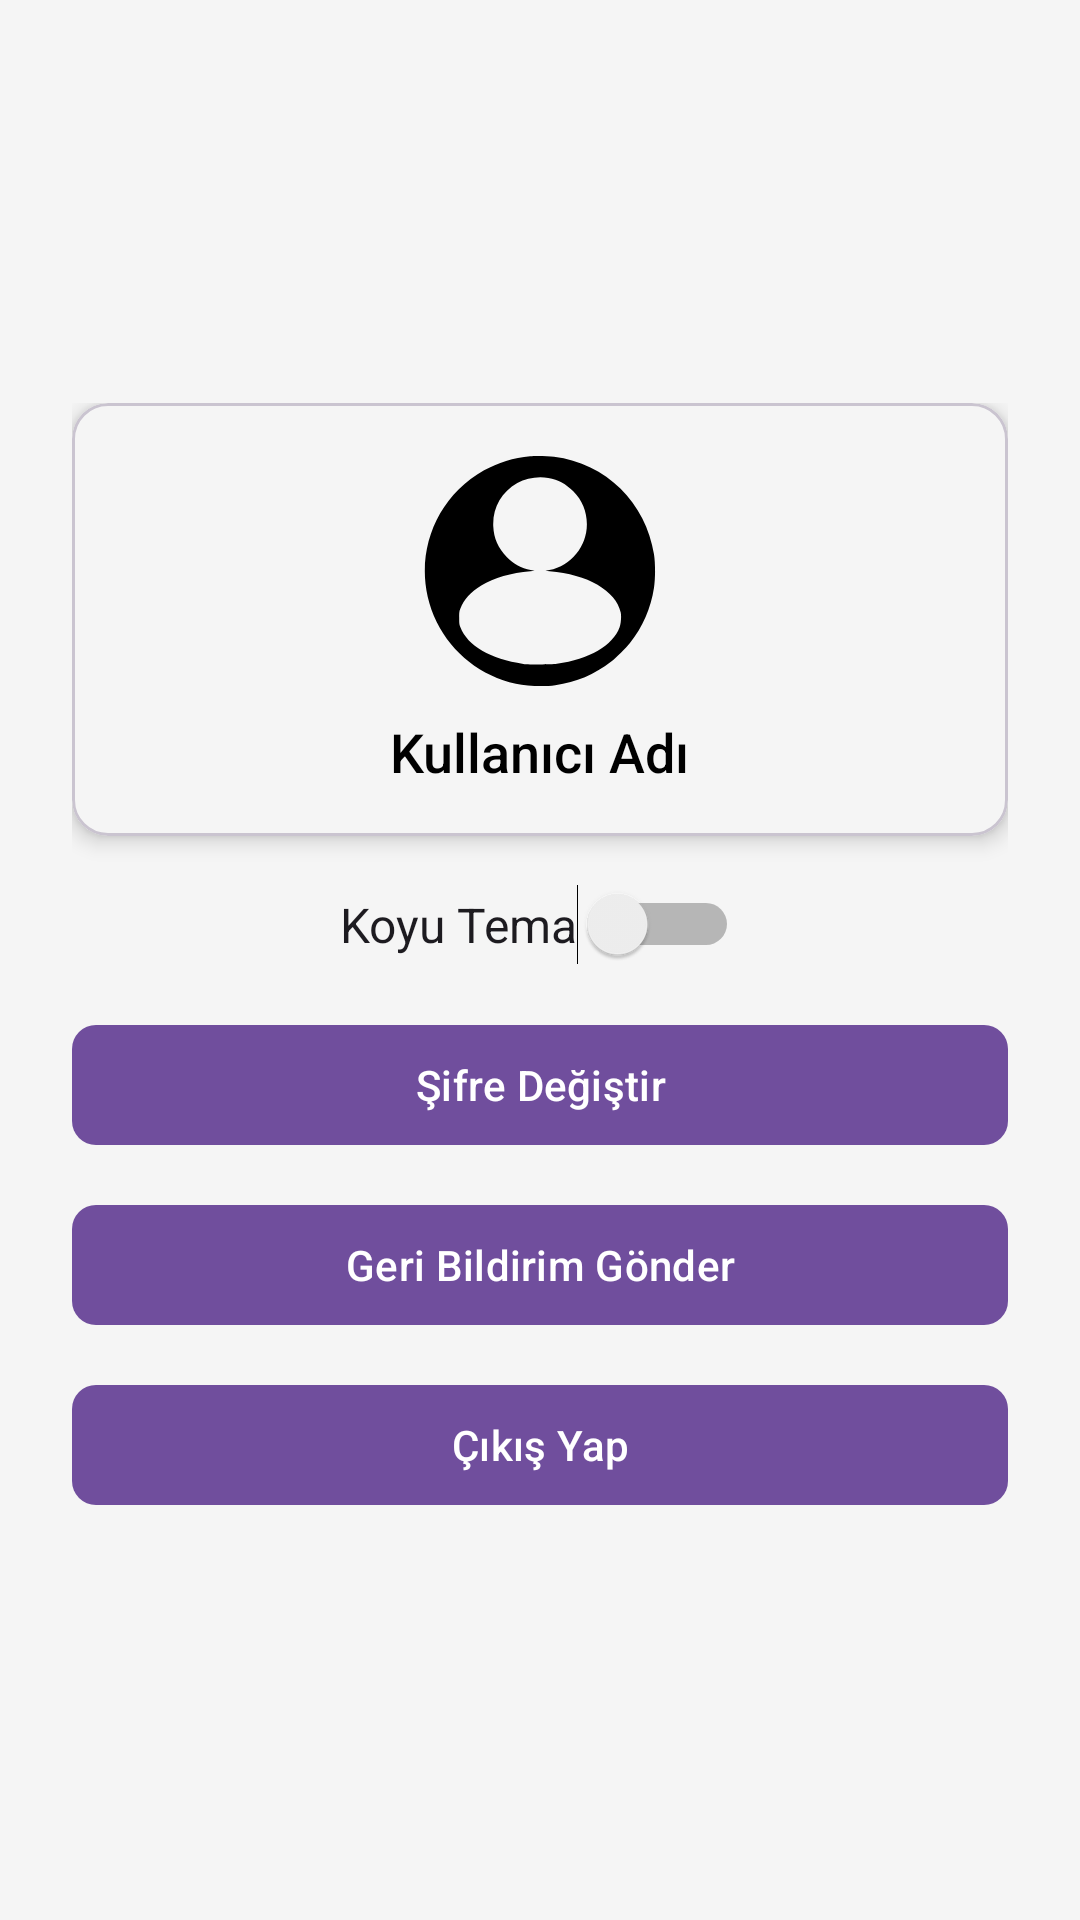

Icons on this 1080*1920 Android screen, each with the point to tap as (x,y):
Profil Avatarı: (539,571)
